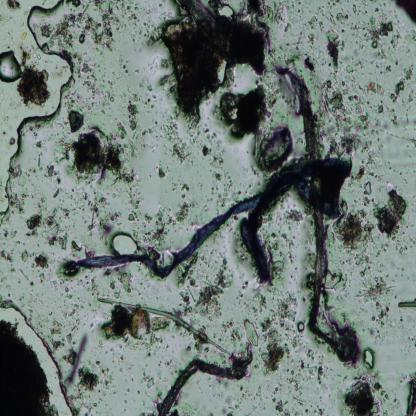Air bubble: (112, 231, 138, 258), (0, 50, 21, 82), (216, 3, 234, 23), (363, 347, 376, 371), (218, 59, 228, 89)
Background material: (155, 0, 262, 116), (98, 298, 232, 355), (0, 322, 62, 416), (53, 125, 136, 194), (213, 73, 282, 140), (247, 115, 298, 175), (89, 0, 144, 55), (23, 190, 68, 252), (226, 16, 270, 76), (258, 327, 304, 377), (333, 196, 375, 250), (326, 112, 370, 162), (48, 4, 90, 50), (373, 188, 410, 239), (18, 48, 48, 110), (363, 16, 403, 62), (101, 306, 154, 340), (78, 64, 114, 112), (342, 377, 381, 416), (78, 358, 117, 396), (260, 222, 285, 279), (57, 284, 83, 334), (66, 331, 90, 384), (195, 280, 224, 322), (321, 81, 353, 118), (371, 96, 399, 138), (7, 163, 29, 216), (354, 277, 395, 305), (388, 63, 415, 104), (213, 174, 242, 212), (336, 322, 361, 366), (140, 115, 179, 143), (296, 14, 324, 48), (278, 287, 300, 327), (325, 26, 341, 80), (316, 0, 350, 25), (163, 200, 191, 229), (255, 306, 282, 336), (136, 222, 168, 247), (310, 102, 327, 148), (122, 332, 163, 351), (270, 381, 292, 416), (291, 394, 326, 416), (177, 258, 201, 290), (215, 252, 235, 289), (64, 88, 92, 114), (260, 0, 286, 28), (125, 90, 141, 134), (20, 33, 41, 66), (283, 204, 304, 235), (191, 334, 214, 362), (372, 300, 392, 332), (238, 0, 263, 25), (403, 368, 416, 416), (347, 163, 369, 191), (242, 314, 259, 350), (176, 286, 195, 318), (326, 268, 348, 295), (169, 142, 193, 166), (265, 40, 288, 64), (350, 19, 366, 53), (221, 393, 244, 416), (96, 216, 113, 247), (394, 231, 416, 254), (285, 43, 303, 71), (284, 232, 298, 268), (355, 252, 374, 278), (143, 22, 163, 45), (150, 314, 173, 334), (236, 280, 251, 310), (70, 187, 85, 216), (113, 119, 129, 146), (117, 270, 135, 294), (208, 131, 225, 156), (344, 63, 361, 88), (360, 142, 376, 168), (231, 238, 247, 264), (86, 199, 99, 230), (34, 250, 54, 270), (127, 184, 142, 210), (64, 392, 80, 416), (49, 116, 69, 135), (217, 320, 236, 340), (115, 52, 130, 77), (67, 109, 84, 131), (348, 94, 366, 114), (79, 394, 97, 414), (301, 269, 315, 294), (103, 209, 122, 227), (125, 134, 138, 160), (304, 53, 318, 77), (146, 245, 164, 263), (285, 375, 302, 394), (366, 80, 386, 96), (36, 314, 52, 334), (87, 276, 101, 298), (401, 113, 416, 133), (28, 119, 42, 140), (34, 22, 50, 40), (300, 358, 316, 376), (310, 79, 322, 102), (141, 371, 157, 388), (62, 261, 79, 277), (0, 247, 15, 265), (21, 268, 34, 288), (210, 154, 226, 170), (61, 350, 77, 366), (197, 253, 214, 268), (50, 318, 64, 336), (352, 364, 366, 382), (253, 290, 265, 310), (316, 47, 327, 68), (230, 327, 242, 346), (397, 298, 416, 310), (126, 208, 140, 224), (179, 402, 195, 416), (33, 138, 50, 151), (214, 376, 231, 389), (327, 230, 337, 251), (304, 342, 315, 361), (57, 268, 69, 285), (270, 280, 278, 305), (157, 159, 167, 179), (154, 206, 164, 226), (405, 26, 416, 44), (140, 141, 158, 152), (43, 165, 57, 179), (7, 0, 22, 13), (339, 257, 355, 269), (262, 214, 274, 230), (342, 53, 359, 64), (374, 329, 385, 346), (284, 0, 295, 17), (0, 177, 7, 203), (49, 66, 64, 78), (160, 54, 170, 72), (0, 12, 12, 27), (3, 228, 18, 240), (36, 269, 46, 287), (84, 244, 95, 260), (316, 366, 326, 383), (370, 371, 384, 383), (198, 142, 210, 156), (70, 239, 82, 253), (20, 248, 30, 264), (146, 348, 159, 360), (141, 211, 152, 225), (213, 231, 224, 245), (95, 339, 104, 356), (396, 374, 408, 386), (78, 28, 87, 44), (10, 98, 22, 110), (27, 306, 35, 324), (284, 21, 295, 34), (380, 391, 390, 405), (37, 152, 44, 172), (340, 311, 350, 325), (34, 292, 44, 306), (392, 395, 400, 412), (202, 195, 210, 212), (363, 181, 372, 196), (164, 357, 176, 368), (144, 97, 155, 109), (51, 341, 63, 352), (378, 65, 391, 75), (380, 240, 390, 253), (155, 387, 164, 401), (117, 352, 126, 366), (51, 188, 62, 199), (5, 40, 15, 52), (189, 199, 199, 211), (297, 319, 305, 334), (211, 170, 223, 180), (366, 97, 374, 112), (6, 266, 16, 278), (274, 209, 282, 224), (18, 292, 25, 309), (294, 9, 303, 22), (169, 180, 177, 194), (246, 181, 254, 195), (66, 0, 82, 7), (204, 124, 211, 140), (318, 352, 326, 366), (373, 382, 384, 392), (180, 181, 190, 192), (212, 390, 222, 401), (148, 62, 158, 73), (374, 7, 386, 16), (142, 6, 154, 15), (75, 277, 84, 289), (256, 385, 262, 402), (356, 307, 366, 317), (361, 196, 370, 207), (356, 85, 367, 94), (5, 284, 12, 298), (376, 144, 384, 156), (144, 80, 152, 92), (98, 195, 106, 207), (334, 294, 346, 302), (339, 38, 346, 51), (0, 271, 7, 284), (389, 259, 396, 272), (398, 315, 404, 330), (26, 291, 32, 306), (49, 280, 58, 290), (226, 222, 235, 232), (410, 134, 416, 149), (404, 45, 412, 56), (375, 174, 384, 183), (118, 366, 126, 376), (140, 411, 156, 416), (358, 59, 366, 69), (116, 341, 124, 351), (356, 317, 364, 327), (1, 216, 11, 224), (390, 318, 397, 329), (109, 280, 116, 291), (368, 327, 374, 339), (393, 11, 399, 23), (371, 241, 379, 250), (359, 0, 368, 8), (19, 20, 27, 29), (404, 341, 410, 353), (90, 308, 99, 316), (54, 176, 62, 185), (406, 334, 413, 344), (42, 42, 50, 50), (168, 332, 176, 340), (236, 383, 244, 391), (294, 0, 302, 8), (104, 269, 112, 277), (83, 190, 89, 200), (376, 184, 382, 194), (328, 250, 334, 260), (4, 115, 9, 127), (387, 184, 394, 192), (163, 343, 170, 351), (245, 388, 252, 396), (20, 32, 27, 40), (211, 186, 218, 194), (114, 292, 121, 300), (342, 375, 350, 382), (367, 170, 374, 178), (10, 137, 16, 146), (408, 221, 414, 230), (26, 168, 31, 178), (207, 409, 214, 416), (119, 92, 126, 99), (195, 376, 201, 384), (68, 340, 76, 346), (382, 160, 388, 168), (136, 82, 144, 88), (360, 10, 368, 16), (376, 249, 382, 257), (96, 319, 102, 327), (130, 372, 135, 381), (234, 214, 239, 223), (174, 407, 179, 416), (127, 363, 133, 370), (375, 234, 381, 241), (30, 167, 36, 174), (205, 374, 211, 381), (14, 239, 21, 245), (111, 192, 117, 199), (137, 280, 144, 286), (110, 348, 115, 356), (352, 4, 356, 14), (375, 64, 380, 72), (369, 0, 379, 4), (186, 346, 192, 352), (89, 323, 95, 329), (336, 372, 342, 378), (413, 336, 416, 348), (244, 411, 251, 416), (252, 405, 257, 412), (97, 397, 102, 404), (127, 85, 131, 93), (0, 89, 4, 97), (0, 294, 4, 302), (377, 268, 383, 273), (368, 70, 373, 76), (370, 60, 376, 65), (13, 114, 19, 119), (380, 262, 385, 268), (267, 379, 273, 384), (250, 396, 255, 402), (391, 235, 396, 241), (383, 411, 389, 416), (31, 251, 35, 258), (341, 29, 346, 34), (337, 387, 342, 392), (72, 220, 75, 228), (400, 168, 403, 176), (386, 160, 390, 166), (158, 361, 162, 367), (290, 370, 294, 376), (42, 0, 46, 6), (406, 168, 410, 174), (88, 302, 92, 308), (162, 378, 168, 382), (384, 274, 390, 278), (2, 132, 8, 136), (48, 311, 52, 317), (124, 407, 127, 414), (142, 402, 146, 407), (406, 143, 410, 148), (124, 399, 128, 404), (0, 236, 4, 241), (208, 383, 212, 388), (181, 194, 185, 199), (2, 99, 6, 104), (264, 395, 268, 400), (85, 280, 90, 284), (174, 370, 178, 375), (286, 370, 290, 375), (412, 193, 416, 198), (158, 3, 162, 8), (290, 274, 294, 279), (135, 69, 139, 74), (402, 267, 406, 272), (89, 232, 93, 237), (34, 156, 38, 161), (2, 242, 6, 247), (266, 385, 270, 390), (127, 387, 130, 393), (396, 59, 399, 65), (137, 390, 140, 396), (350, 271, 353, 277), (8, 126, 12, 130), (349, 280, 351, 288), (23, 10, 27, 14), (31, 264, 35, 268), (361, 328, 365, 332), (372, 198, 375, 203), (195, 405, 198, 410), (170, 372, 173, 377), (405, 224, 408, 229), (400, 412, 403, 416), (412, 325, 416, 328), (114, 117, 117, 121), (386, 180, 389, 184), (62, 337, 65, 341), (394, 274, 398, 277), (409, 154, 412, 158), (394, 294, 397, 298), (404, 179, 408, 182), (413, 169, 416, 173), (393, 168, 396, 172), (295, 266, 298, 270), (397, 267, 400, 271), (329, 367, 332, 371), (378, 137, 380, 142), (387, 261, 389, 266), (326, 366, 328, 371), (389, 167, 392, 170), (395, 185, 398, 188), (85, 276, 88, 279), (22, 242, 25, 245), (404, 165, 407, 168), (146, 364, 148, 368), (304, 298, 306, 302), (106, 350, 108, 354), (392, 279, 394, 283), (358, 10, 360, 14), (263, 407, 265, 411), (258, 402, 260, 406), (328, 395, 331, 397), (209, 398, 211, 401), (401, 274, 403, 277), (406, 182, 408, 184), (384, 4, 386, 6), (302, 11, 304, 13), (112, 360, 114, 362), (301, 22, 302, 23), (258, 379, 258, 380)
Cellulose filter fibre: (285, 66, 341, 351), (161, 351, 256, 416)
Cotton: (71, 160, 343, 274)
Pen: (396, 1, 416, 25)
